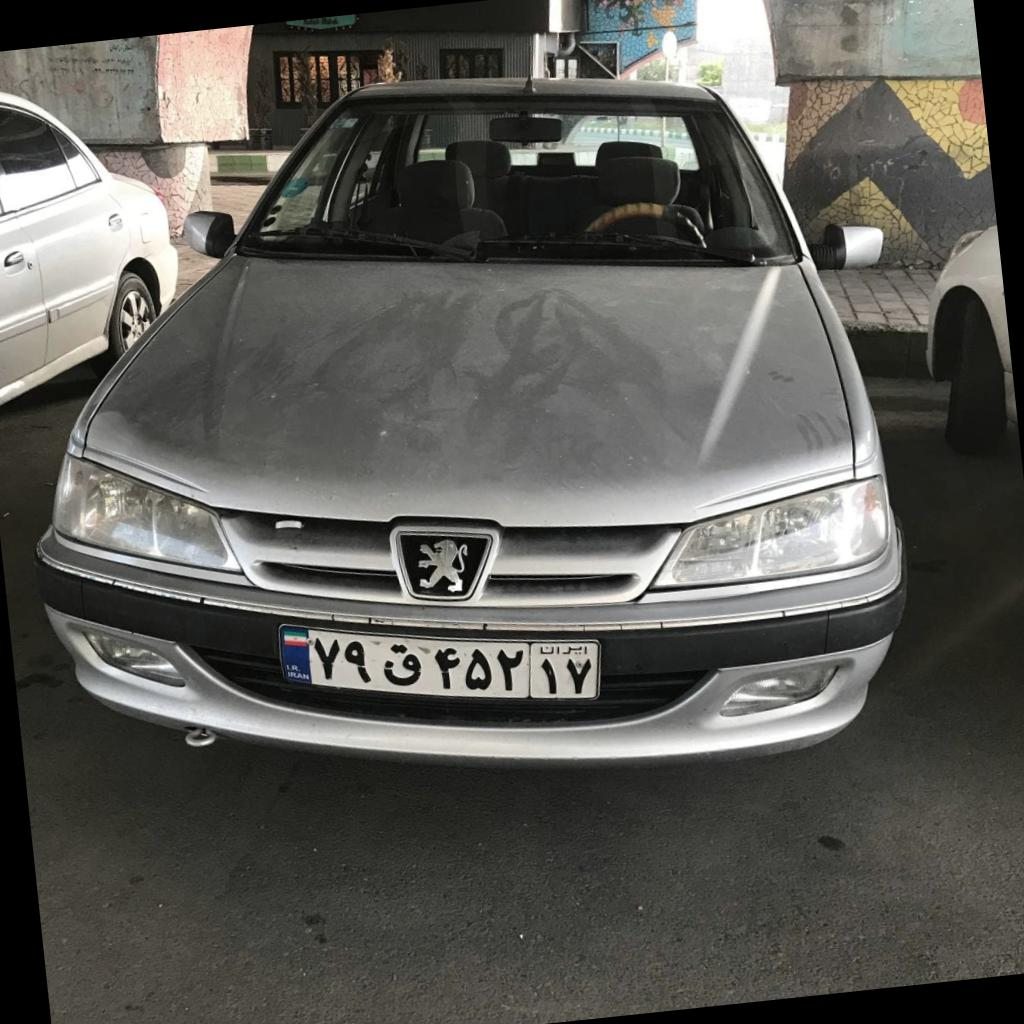Plates: (281, 628, 599, 700)
